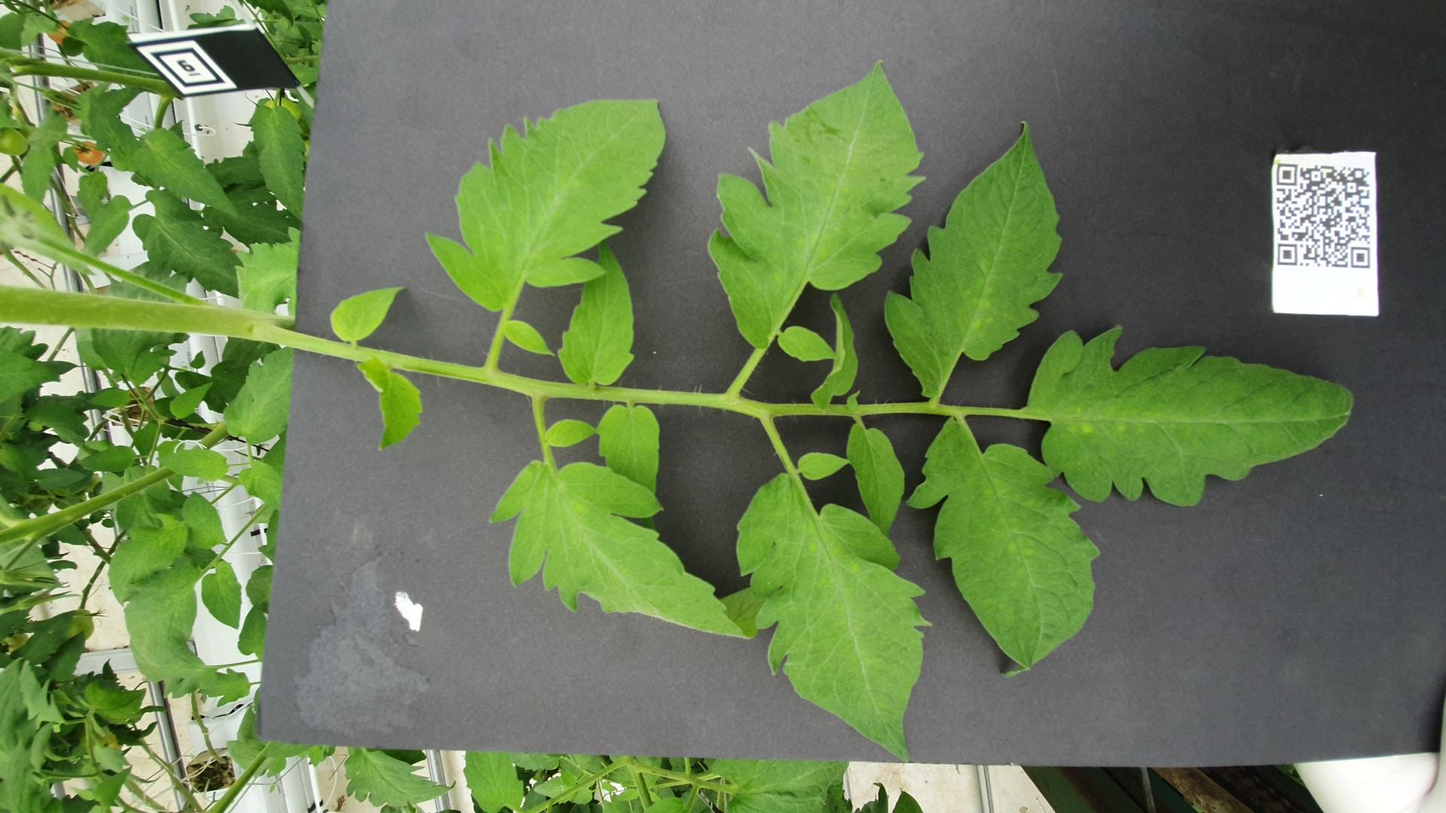Healthy: (801, 397, 1344, 521), (547, 577, 870, 763), (88, 412, 600, 525), (890, 238, 1277, 376), (305, 272, 633, 429), (738, 495, 1233, 599), (247, 509, 708, 619), (916, 74, 1109, 137), (765, 312, 1011, 357), (1054, 74, 1219, 133), (368, 60, 533, 105), (654, 125, 829, 165), (489, 475, 693, 509), (8, 193, 115, 257), (559, 333, 730, 373), (1055, 140, 1261, 172), (0, 259, 111, 295), (988, 46, 1100, 74), (326, 112, 450, 137), (467, 102, 576, 128), (584, 87, 650, 129), (539, 133, 631, 159), (187, 110, 258, 141), (269, 133, 375, 151), (701, 95, 772, 121), (605, 42, 654, 78), (718, 47, 757, 75)
